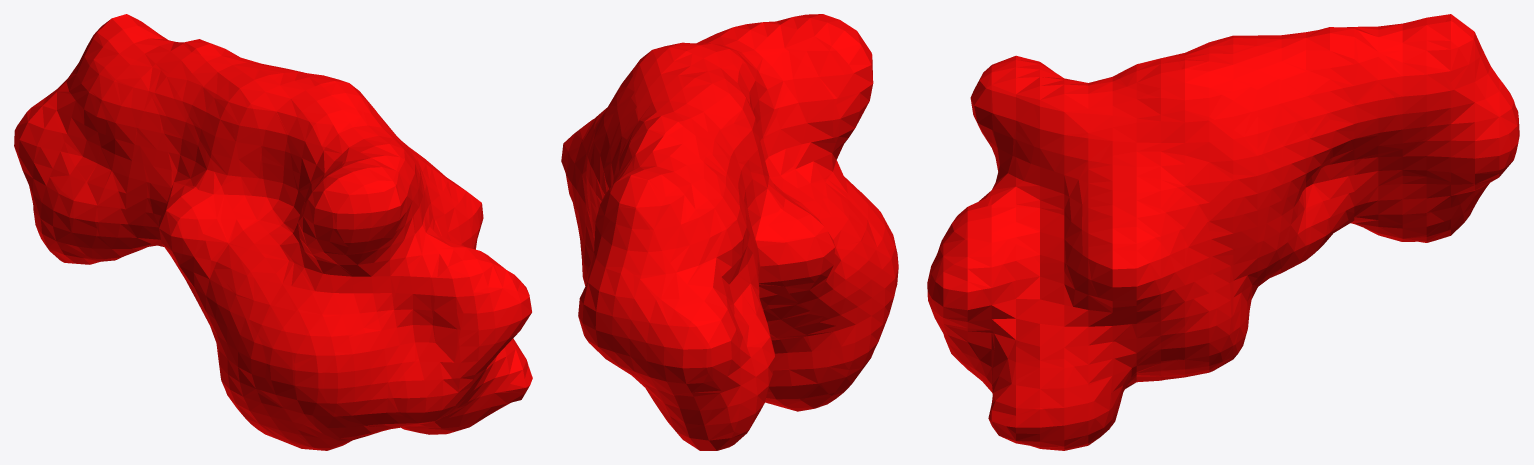
File: nsrR_coarse.dae
The picture shows the model from 3 angles, left to right: view 1: azimuth 30°, elevation 25°; view 2: azimuth 150°, elevation 25°; view 3: azimuth 270°, elevation 25°; orthographic projection. The views are drawn at different scales.
Parts seen in each view (by area): view 1: nsrR; view 2: nsrR; view 3: nsrR.
Boxes of the visible parts, <box> form: nsrR: <box>14,14,532,450</box>; nsrR: <box>561,14,898,450</box>; nsrR: <box>927,14,1519,450</box>.
Size of the model in its own units: 38.42 by 39.02 by 58.64.
